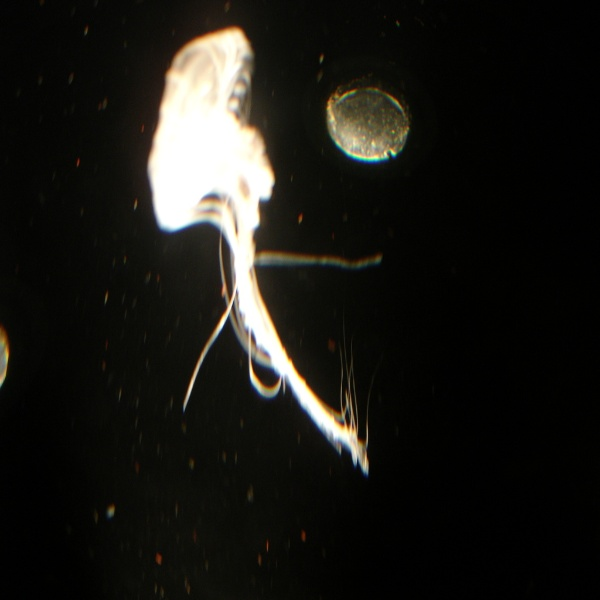Jellyfish: (156, 116, 397, 486)
